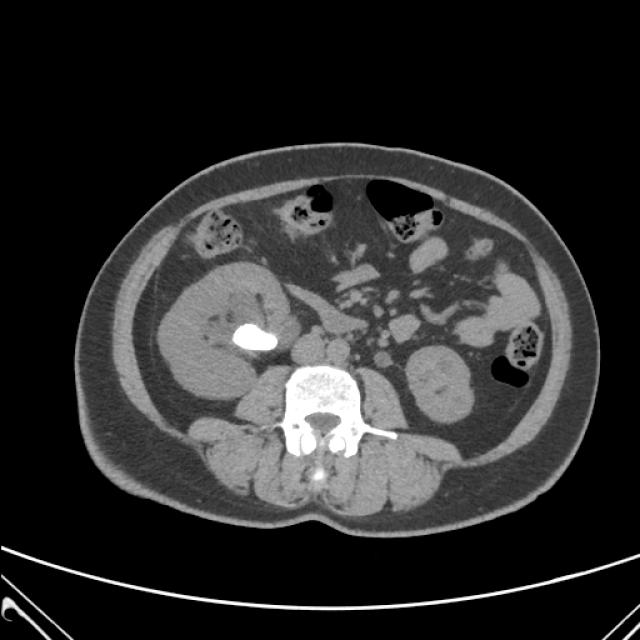kidney: (157, 259, 296, 402), (405, 342, 478, 425)
stone: (237, 317, 280, 356)
